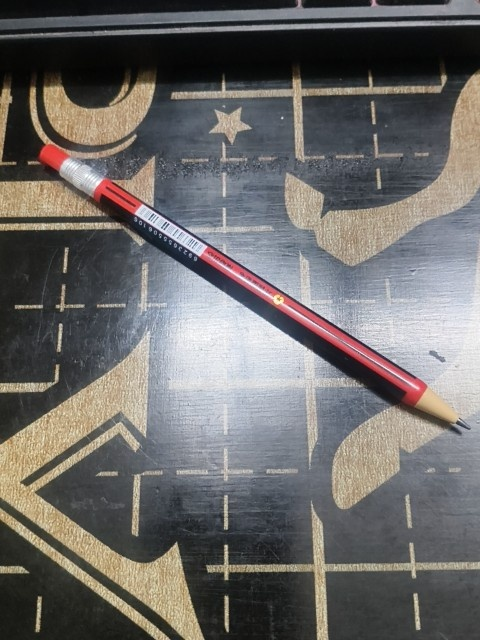pen: (36, 140, 472, 436)
